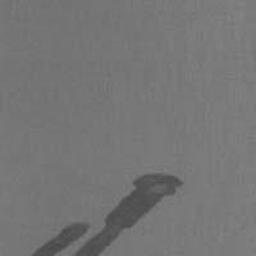Oil spot: (73, 172, 186, 256), (31, 220, 92, 256)
